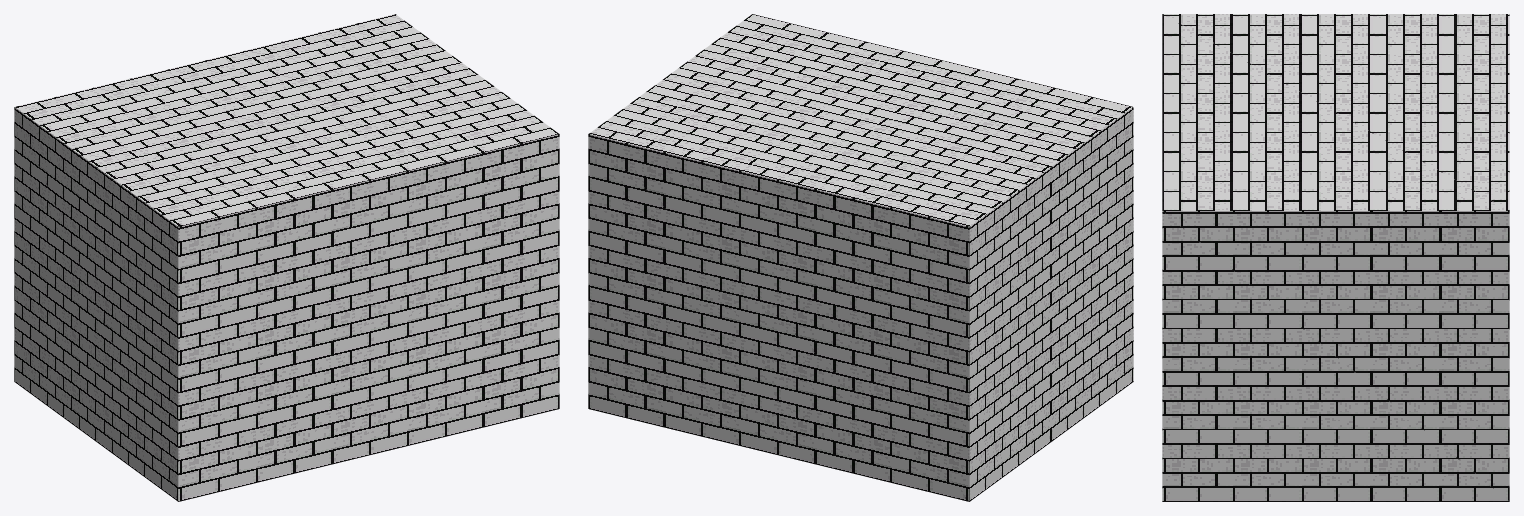
3 renders of one model, left to right at view 1: azimuth 30°, elevation 25°; view 2: azimuth 150°, elevation 25°; view 3: azimuth 270°, elevation 25°, orthographic. The views are drawn at different scales.
Parts seen in each view (by area): view 1: Cube; view 2: Cube; view 3: Cube.
Part boxes in pixels (bbox=[...]): Cube: bbox=[14, 14, 559, 501]; Cube: bbox=[588, 14, 1133, 501]; Cube: bbox=[1162, 14, 1509, 501].
Size of the model in its own units: 97.56 by 67.28 by 72.73.
2 materials, 2 textured.
